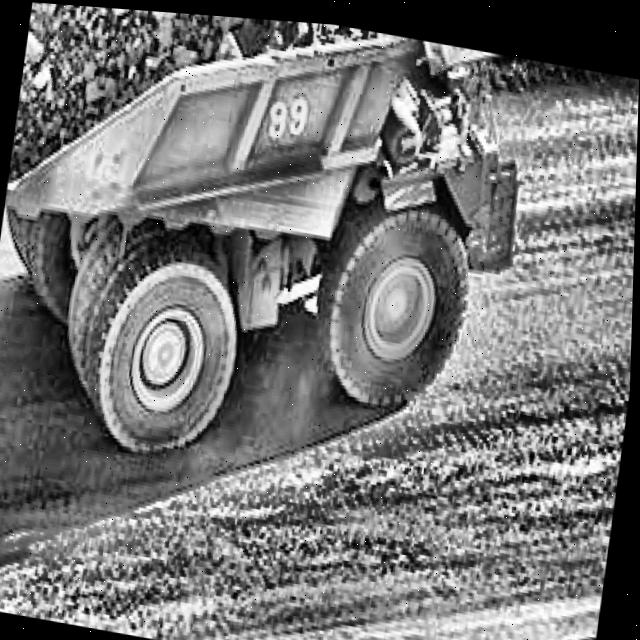dump_truck: (0, 0, 563, 467)
